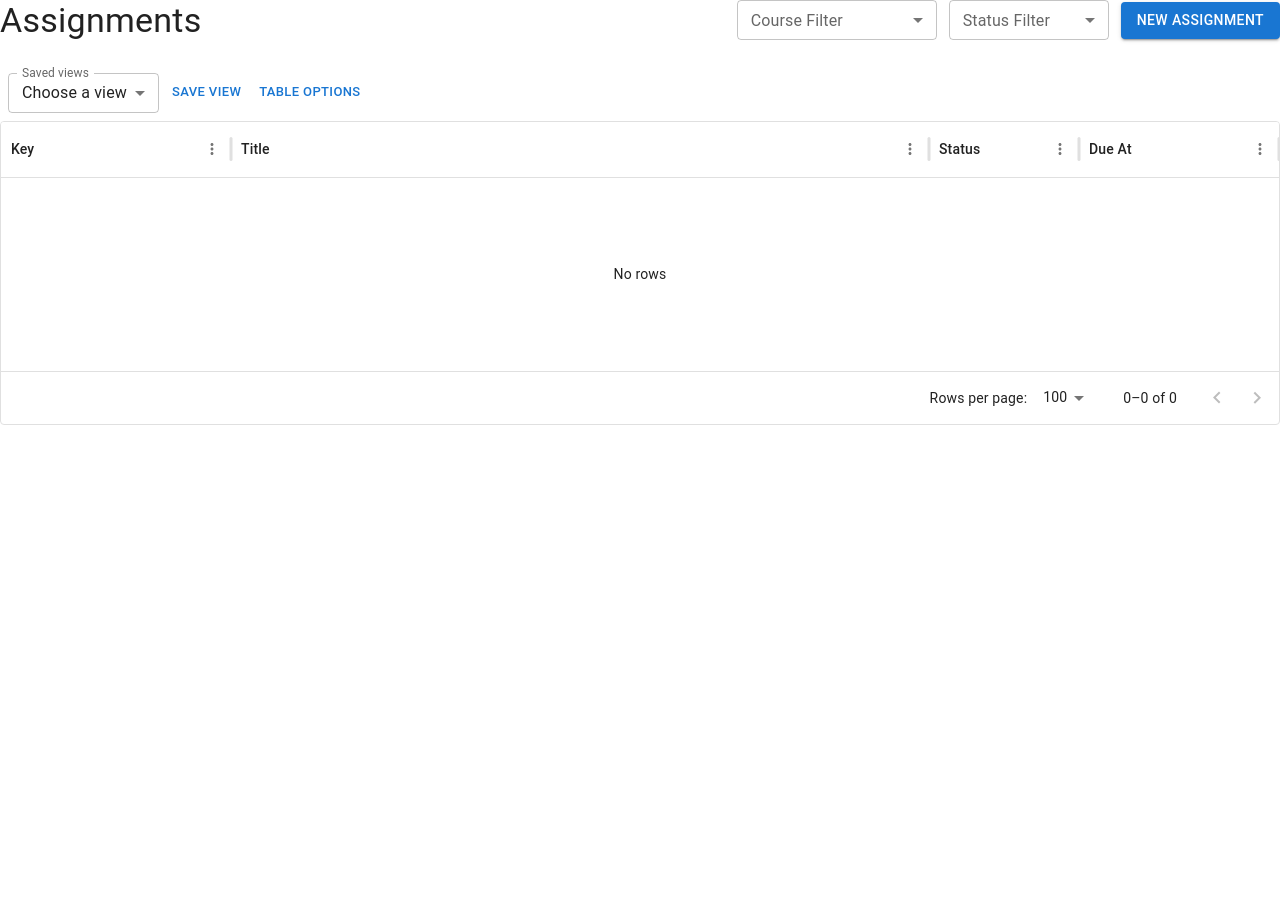
Test: the assignment form asks for its choices in a fixed number of requests
Click the button "New Assignment": (1200, 20) x1=1121 y1=2 x2=1279 y2=39
(page scrolled)
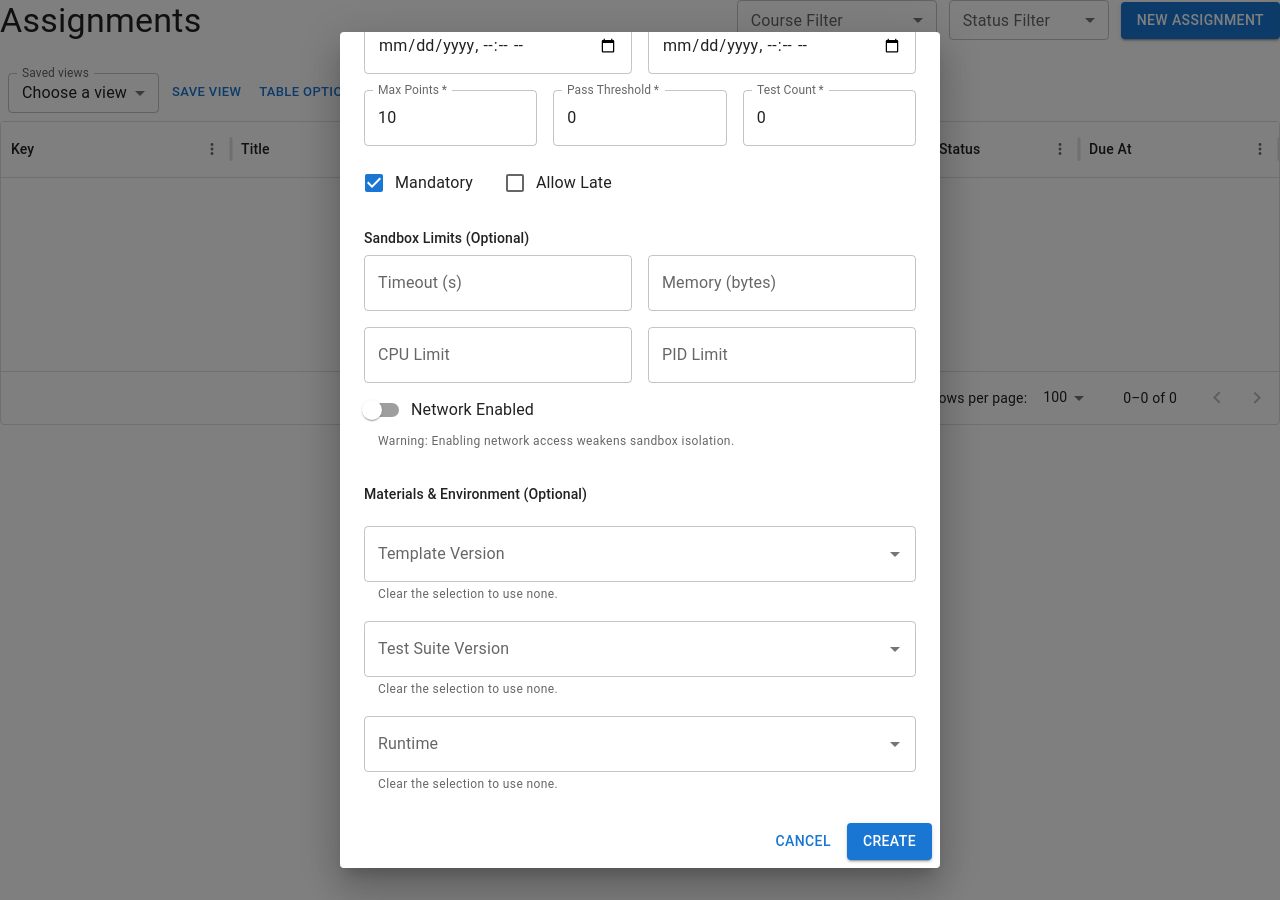
Click the dropdown labelled "Template Version": (625, 554) x1=373 y1=535 x2=877 y2=573
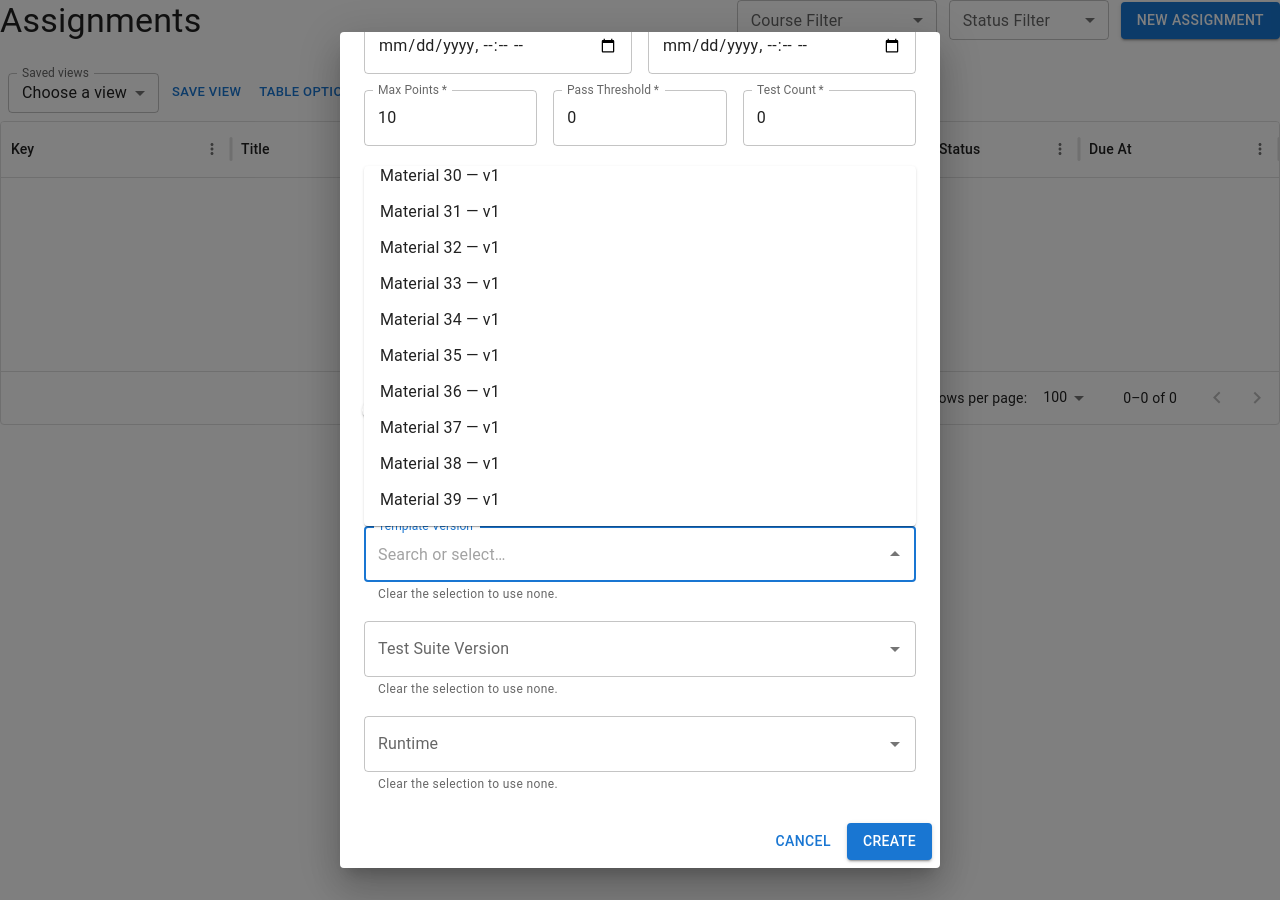
Expected: the option "Material 39 — v1" is shown, x1=380 y1=490 x2=500 y2=509
